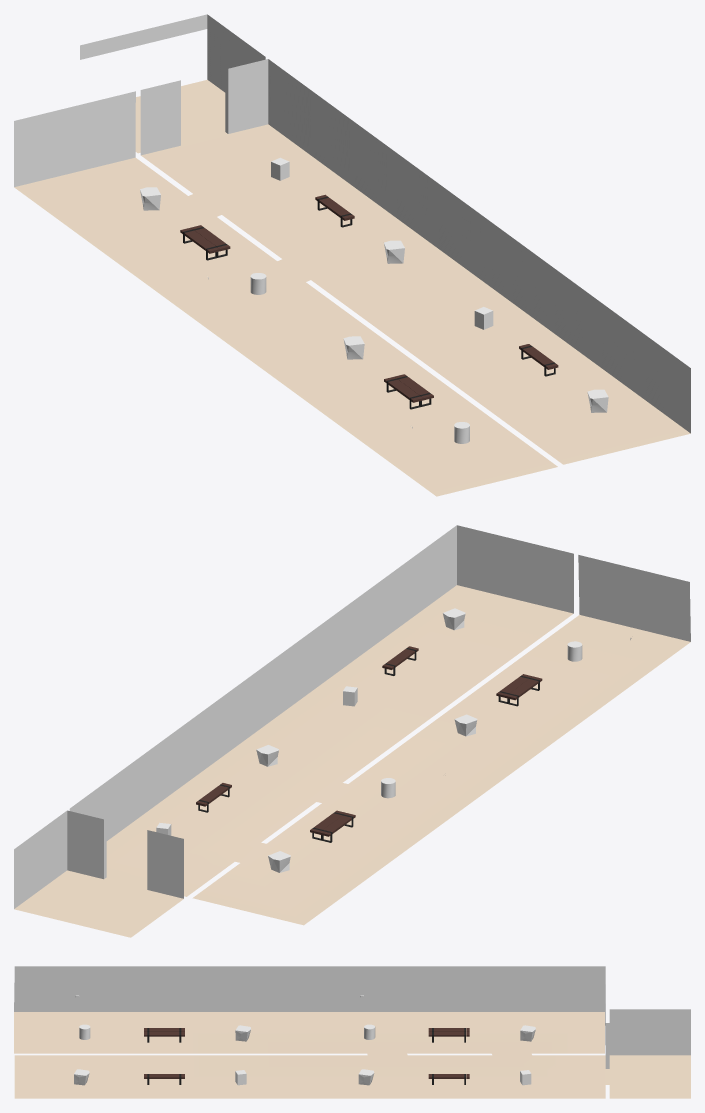
File: gallery_extended.gltf
The picture shows the model from 3 angles, top to bottom: view 1: azimuth 30°, elevation 25°; view 2: azimuth 150°, elevation 25°; view 3: azimuth 270°, elevation 25°; orthographic projection. The views are drawn at different scales.
Parts seen in each view (by area): view 1: Room-floormat, Room-ceilingmat.001; view 2: Room-floormat, Room-ceilingmat.001; view 3: Room-floormat, Room-ceilingmat.001, Plane.001-woodmat (×2), Cube.012, Cube.014.
Part boxes in pixels (x1=…): Room-floormat: x1=14, y1=79, x2=690, y2=496; Room-ceilingmat.001: x1=14, y1=14, x2=690, y2=433; Room-floormat: x1=14, y1=585, x2=690, y2=937; Room-ceilingmat.001: x1=14, y1=525, x2=690, y2=908; Room-floormat: x1=14, y1=1012, x2=690, y2=1098; Room-ceilingmat.001: x1=14, y1=966, x2=690, y2=1068; Plane.001-woodmat (×2): x1=144, y1=1031, x2=469, y2=1036; Cube.012: x1=358, y1=1069, x2=374, y2=1085; Cube.014: x1=235, y1=1025, x2=250, y2=1041.
Size of the model in its own units: 2587 by 596 by 7947.
